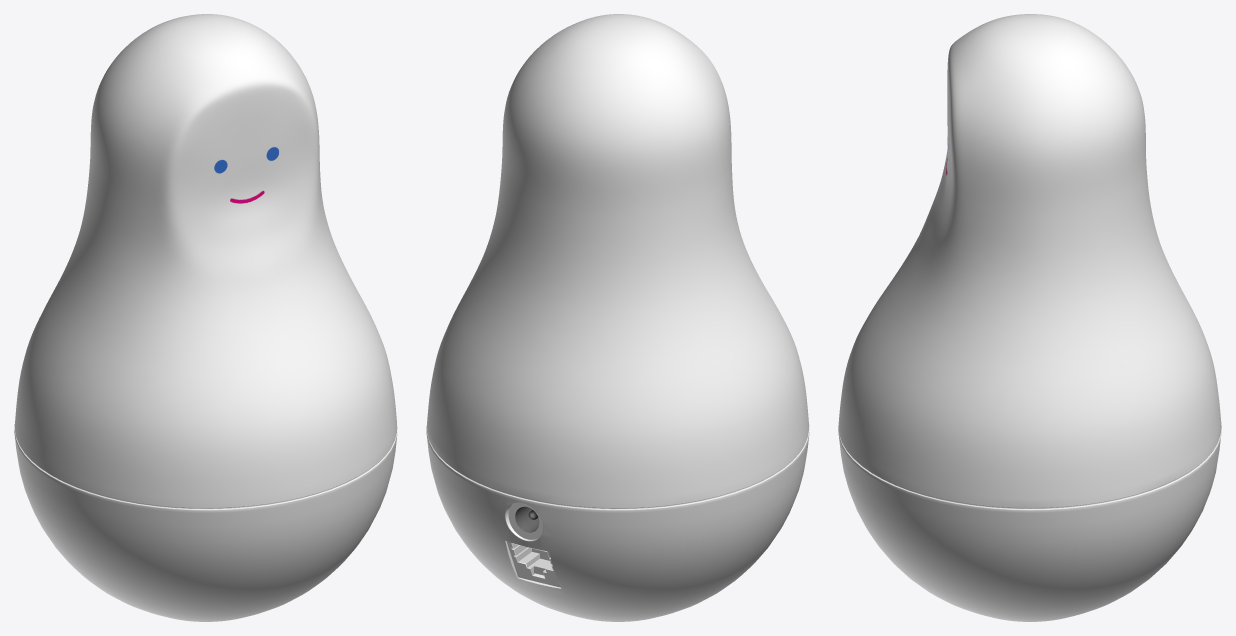
Rendered from toy.glb.
3 renders of one model, left to right at view 1: azimuth 30°, elevation 25°; view 2: azimuth 150°, elevation 25°; view 3: azimuth 270°, elevation 25°, orthographic.
Visible parts, largest first — view 1: Cube_0, Cube_1; view 2: Cube_0, Cube_1, Plane_0; view 3: Cube_0, Cube_1.
Boxes of the visible parts, <box> form: Cube_0: <box>15,14,396,508</box>; Cube_1: <box>14,424,397,621</box>; Cube_0: <box>427,14,808,587</box>; Cube_1: <box>426,424,809,621</box>; Plane_0: <box>512,543,552,576</box>; Cube_0: <box>838,14,1221,508</box>; Cube_1: <box>838,428,1221,621</box>.
Size of what is drawn, in the model's own units: 6.55 by 10.77 by 6.55.
5 materials, 3 textured.
